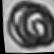correct: (1, 0, 54, 54)
